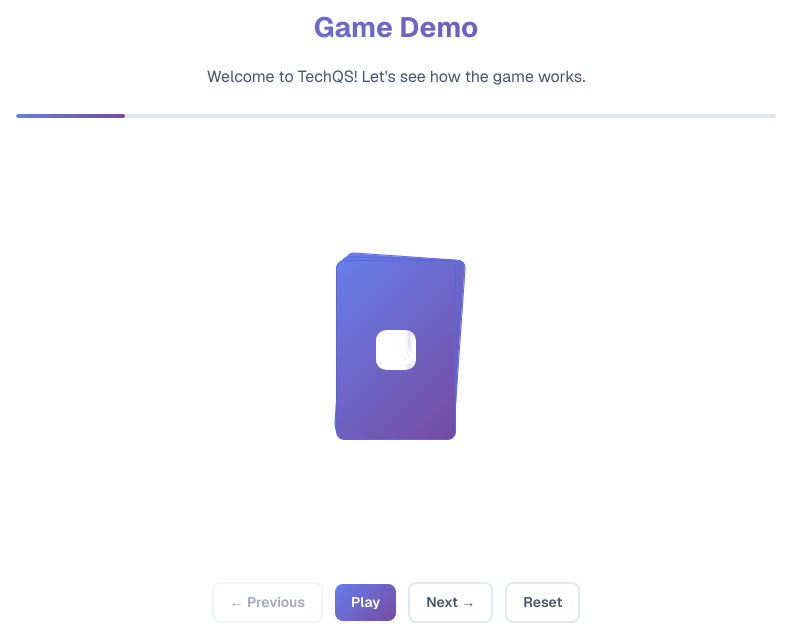
GameDemo › advances to next step when next button is clicked
This screenshot has width=793, height=640.
Click the button "Next →": (451,602) 408,582 -> 493,623
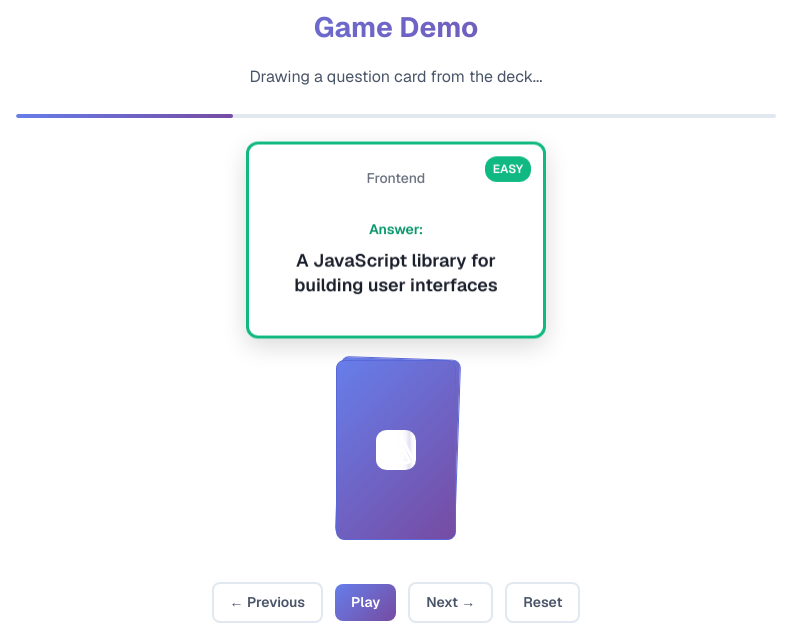
Now the text "Drawing a question card from the deck..." is shown, box 250,66 -> 542,87
